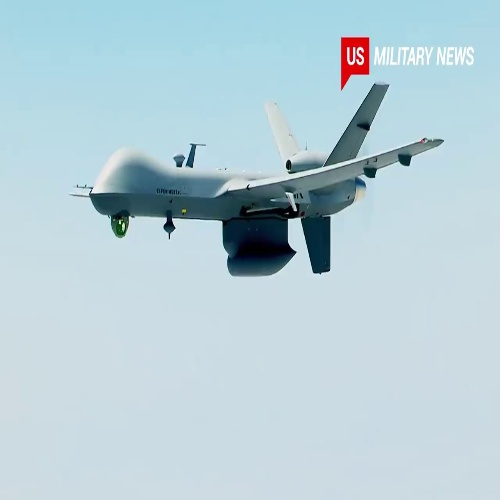uav: (71, 80, 447, 282)
